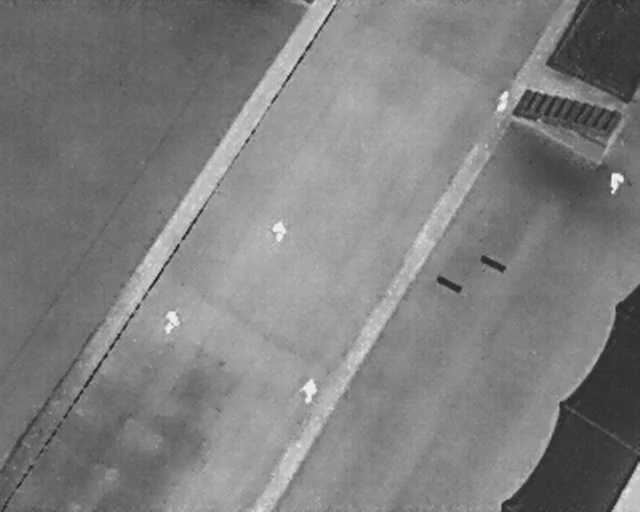Person: (295, 374, 319, 407), (158, 307, 184, 336), (493, 86, 513, 117), (606, 168, 626, 197), (268, 218, 288, 243)
